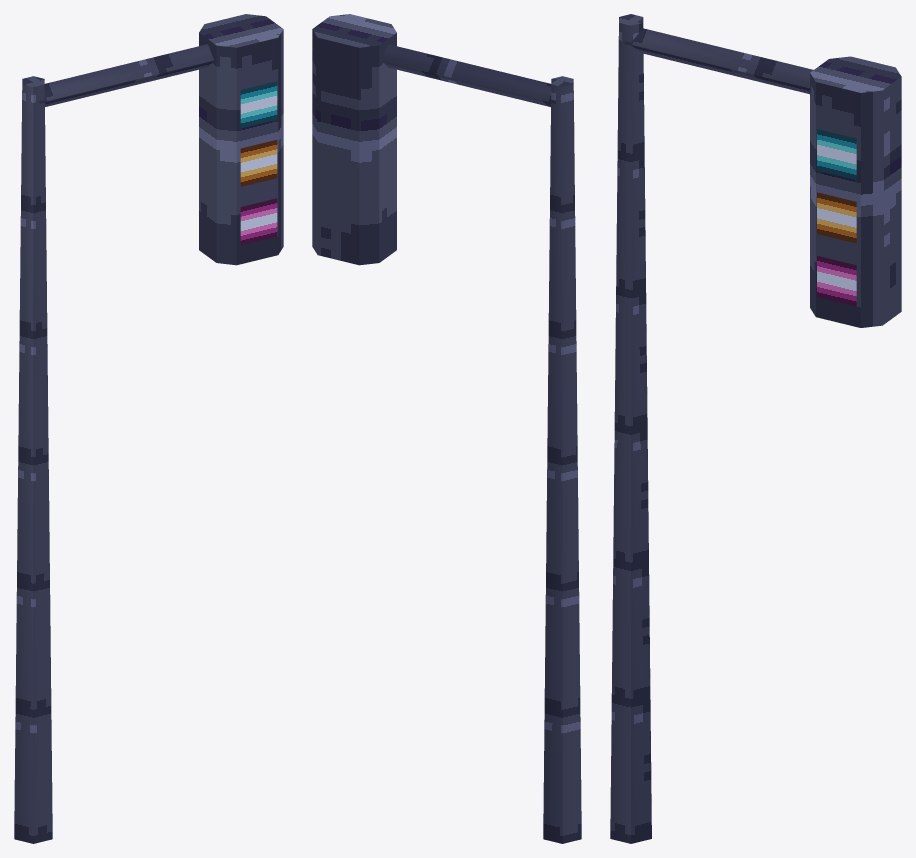
Rendered from cydress.traffic_signal.glb.
3 renders of one model, left to right at view 1: azimuth 30°, elevation 25°; view 2: azimuth 150°, elevation 25°; view 3: azimuth 330°, elevation 25°, orthographic. The views are drawn at different scales.
Parts seen in each view (by area): view 1: kit_body, kit_card_details; view 2: kit_body; view 3: kit_body, kit_card_details.
Part boxes in pixels (<box>): kit_body: <box>14,14,283,843</box>; kit_card_details: <box>240,81,277,245</box>; kit_body: <box>312,14,581,843</box>; kit_body: <box>610,14,901,843</box>; kit_card_details: <box>817,129,856,306</box>.
Size of the model in its own units: 1.63 by 4.5 by 0.365.
3 materials, 3 textured.
